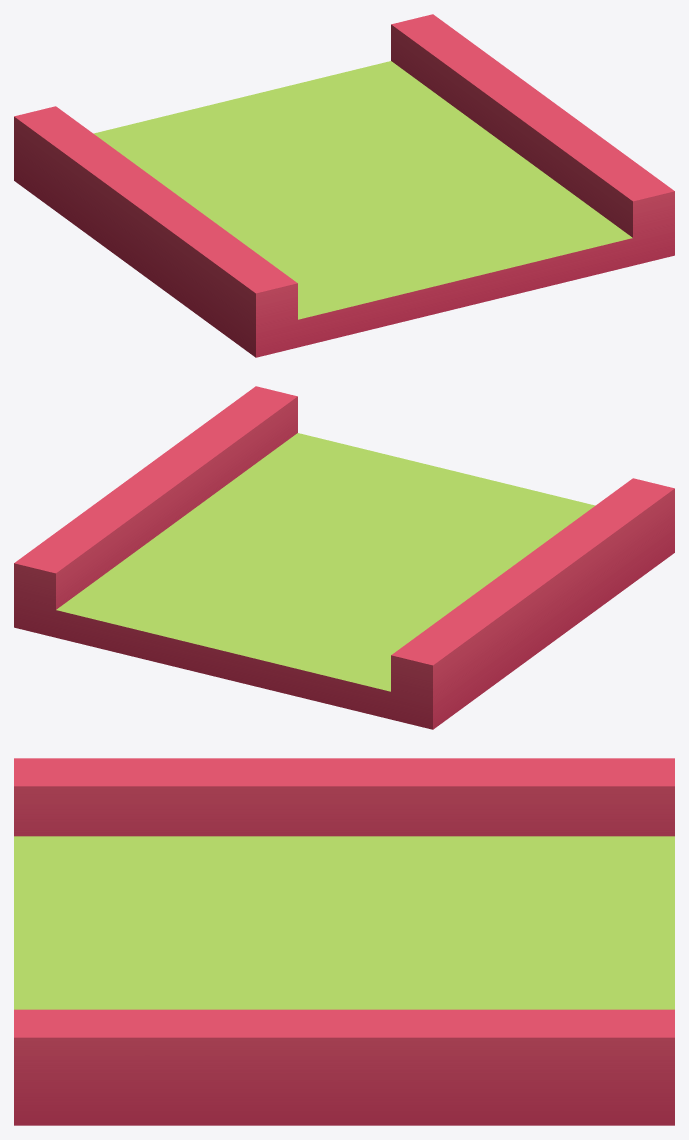
The model's file is straight.gltf.
The picture shows the model from 3 angles, top to bottom: view 1: azimuth 30°, elevation 25°; view 2: azimuth 150°, elevation 25°; view 3: azimuth 270°, elevation 25°; orthographic projection. The views are drawn at different scales.
Parts seen in each view (by area): view 1: straight; view 2: straight; view 3: straight.
Part boxes in pixels (left/top/right/bottom): straight: left=14, top=14, right=674, bottom=357; straight: left=14, top=386, right=674, bottom=729; straight: left=14, top=758, right=674, bottom=1125.
Size of the model in its own units: 0.9999 by 0.1467 by 0.9999.
1 material, 1 textured.
